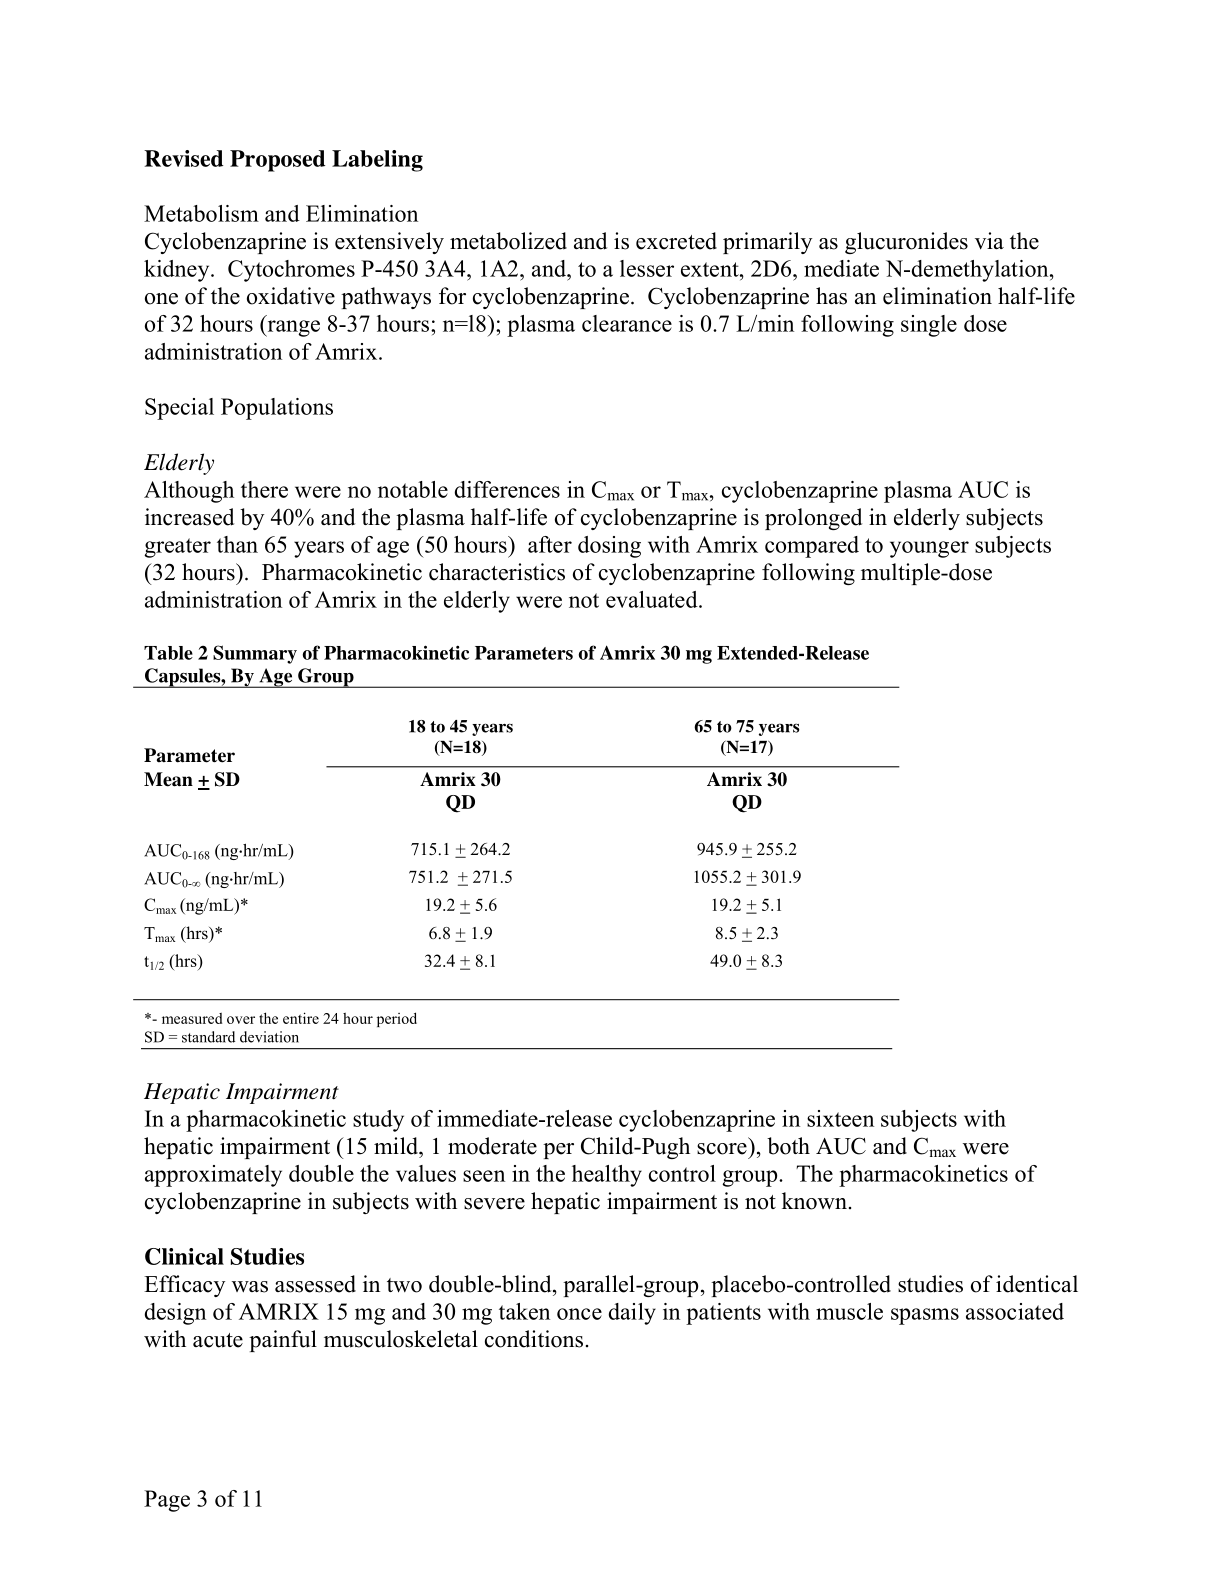partial_lined: (132, 685, 901, 1003)
